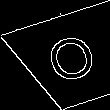O_S: (40, 29, 101, 91)
